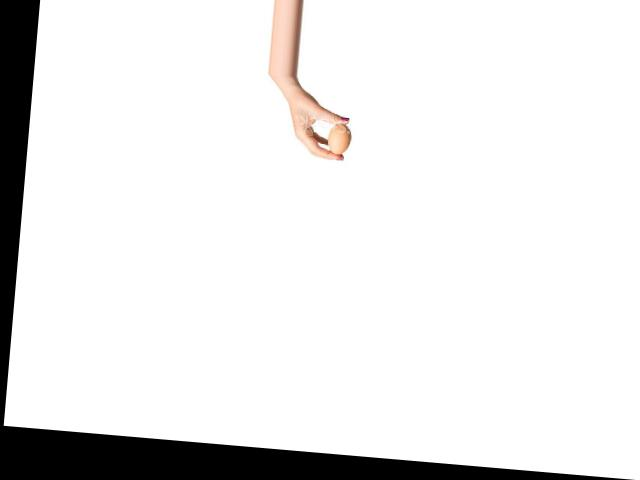egg: (327, 122, 350, 155)
